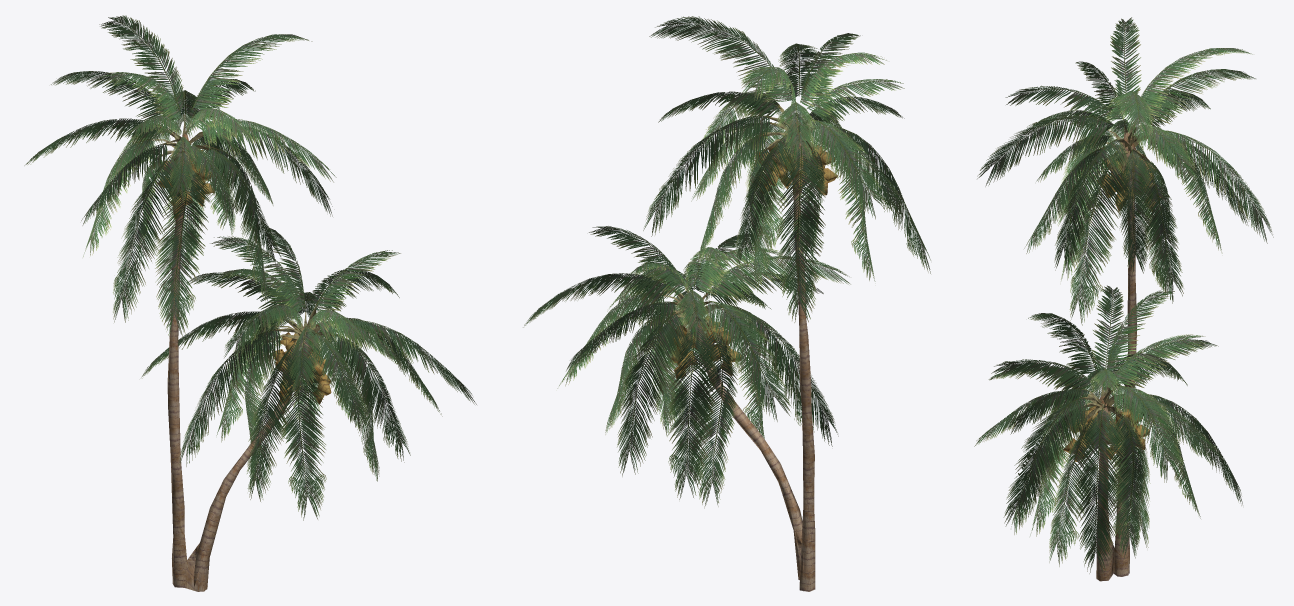
The model's file is palma_coco.glb.
3 renders of one model, left to right at view 1: azimuth 30°, elevation 25°; view 2: azimuth 150°, elevation 25°; view 3: azimuth 270°, elevation 25°, orthographic. The views are drawn at different scales.
Visible parts, largest first — view 1: cerca, lejos; view 2: cerca, lejos; view 3: cerca, lejos.
Boxes of the visible parts, x1,y1,x2,y2 form: cerca: [30, 16, 469, 591]; lejos: [24, 15, 476, 591]; cerca: [524, 16, 930, 591]; lejos: [523, 16, 930, 591]; cerca: [976, 18, 1271, 581]; lejos: [974, 17, 1273, 580].
Bounding box in the file's own units: 6.79 × 9 × 4.9.
Materials: 2 (2 with a texture image).
